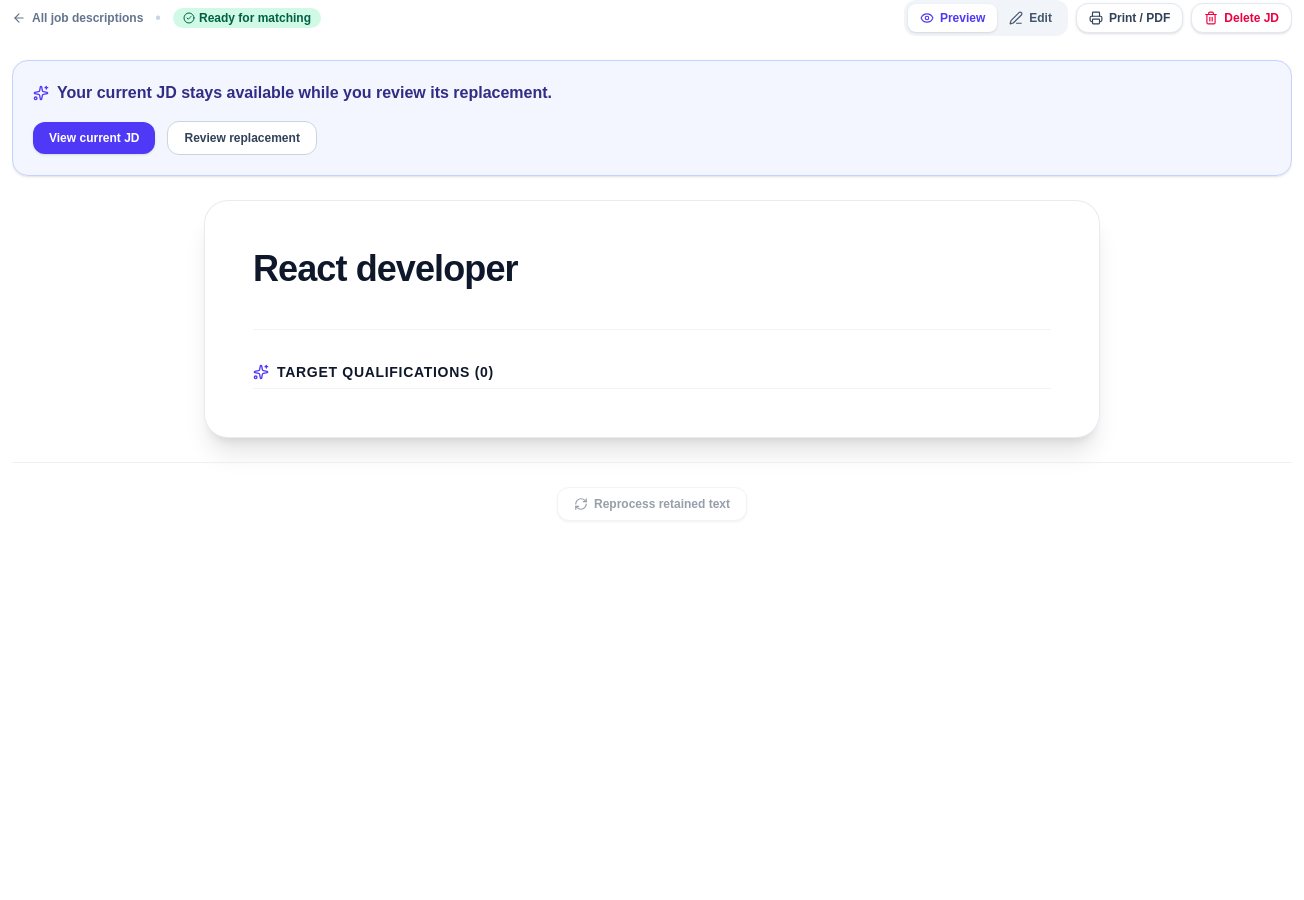
offers Accept replacement after source-side review
This screenshot has width=1304, height=900.
Click the button "Review replacement" at (242, 138), box [168,121,317,155]
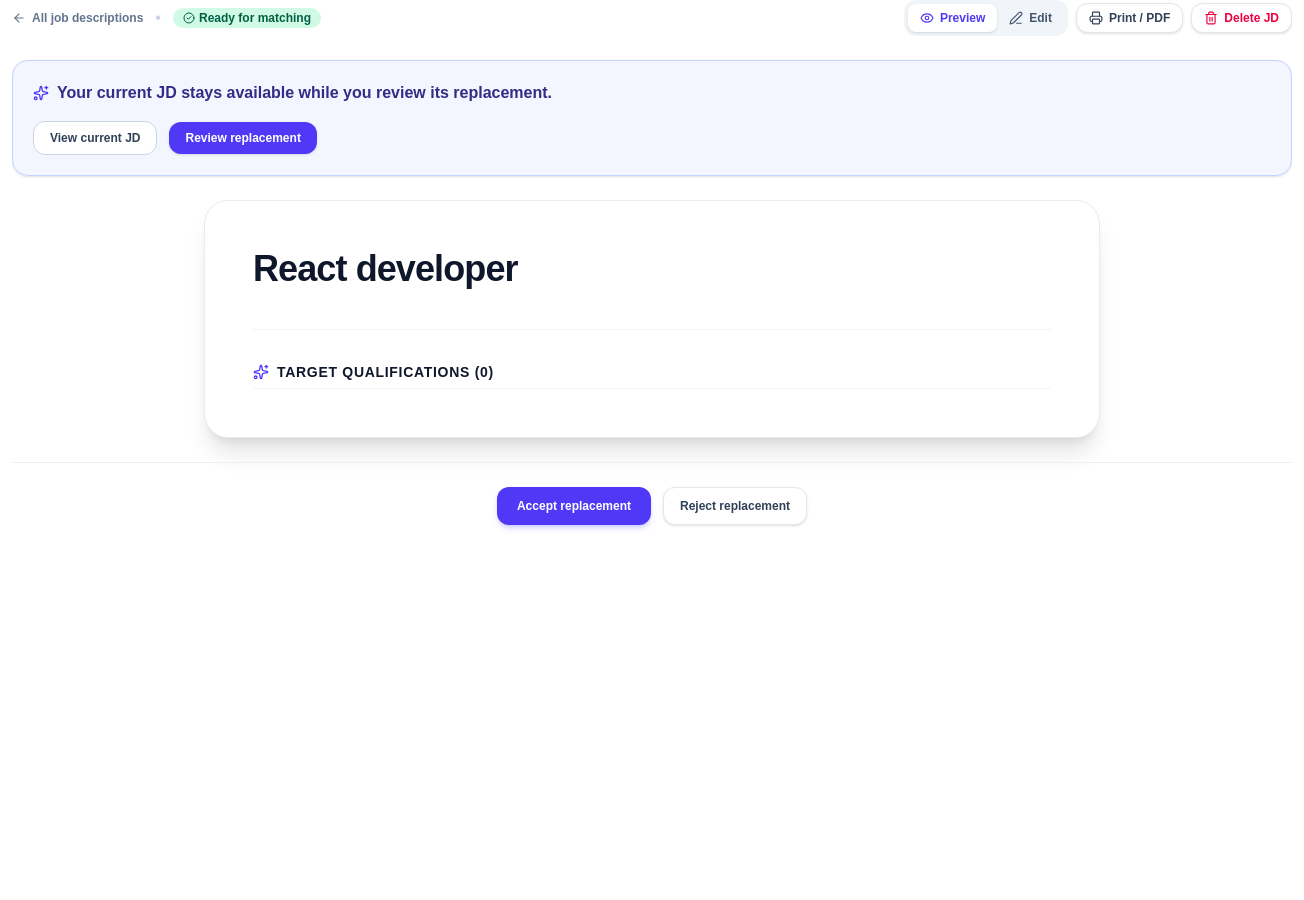
Click the button with test id "toggle-edit-mode" at (1031, 18), box [997,4,1064,32]
(page scrolled)
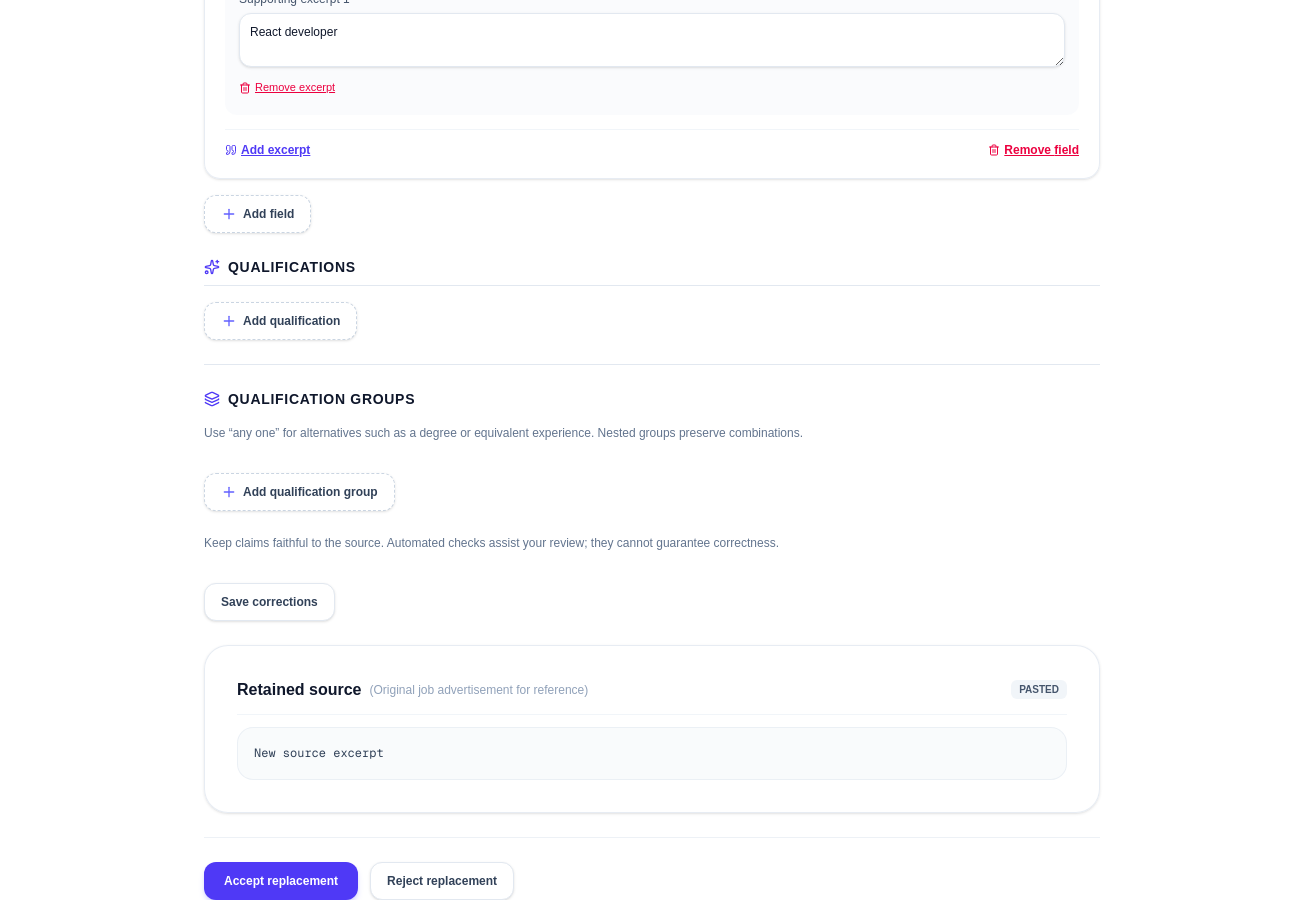
Expected: the text "New source excerpt" is shown, [237,726,1067,780]
Click the button "Accept replacement" at (281, 881), box [204,862,358,899]
(page scrolled)
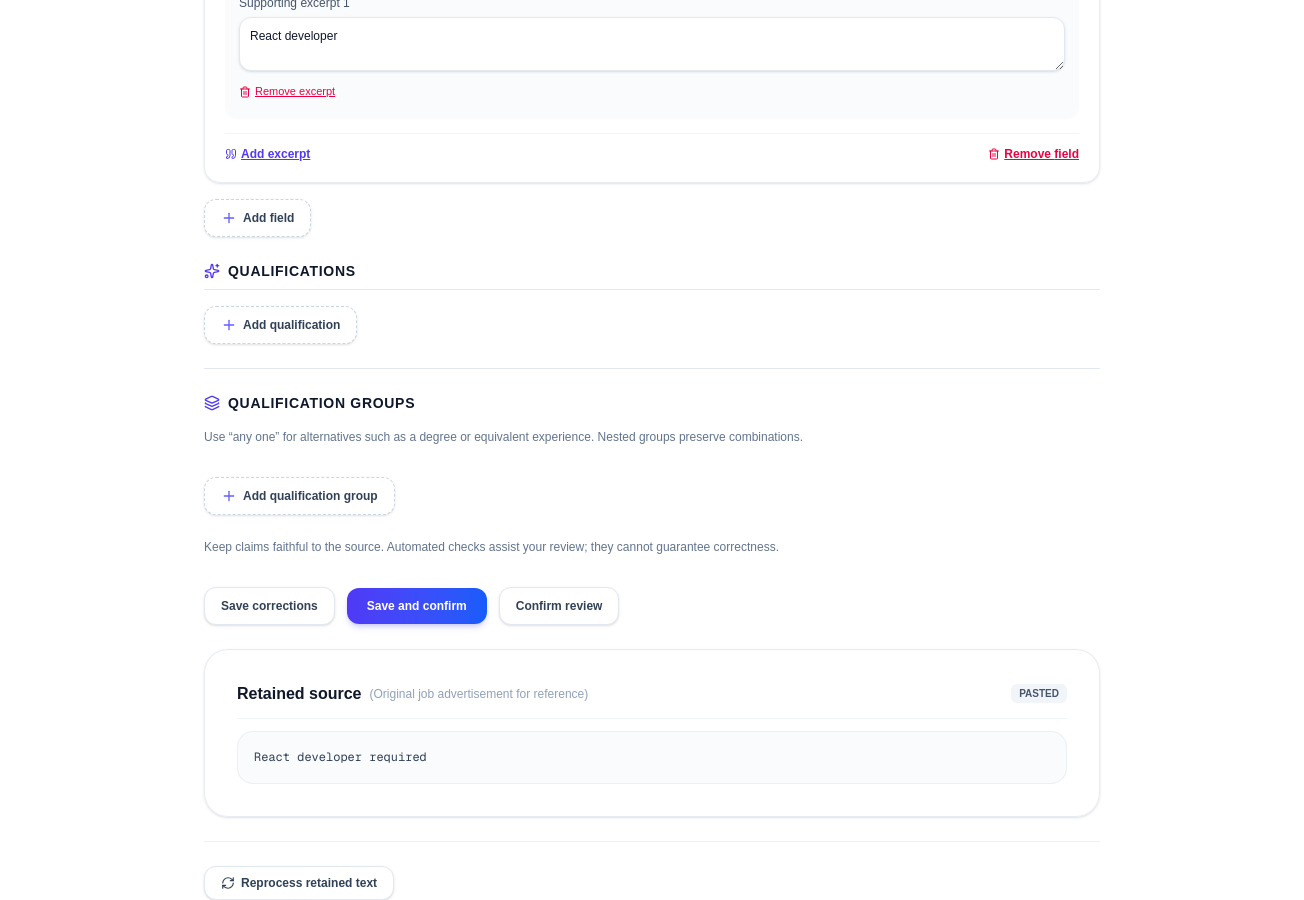
Expected: the button "Accept replacement" is gone
